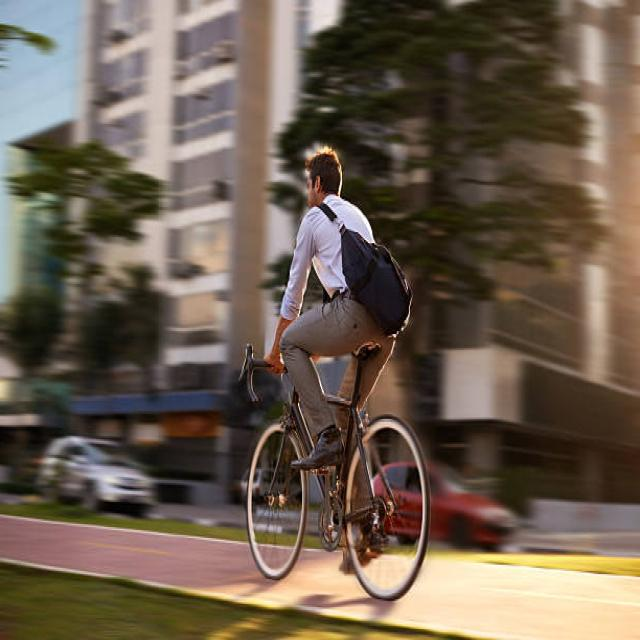bicycle: (240, 148, 430, 599)
